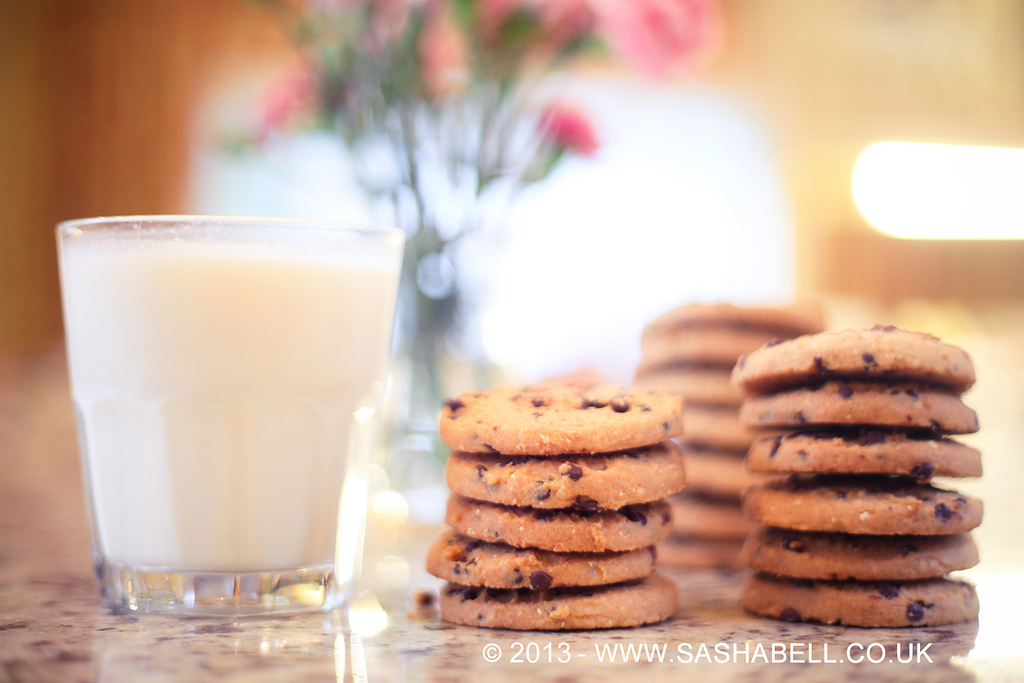glass of milk: (54, 211, 403, 620)
